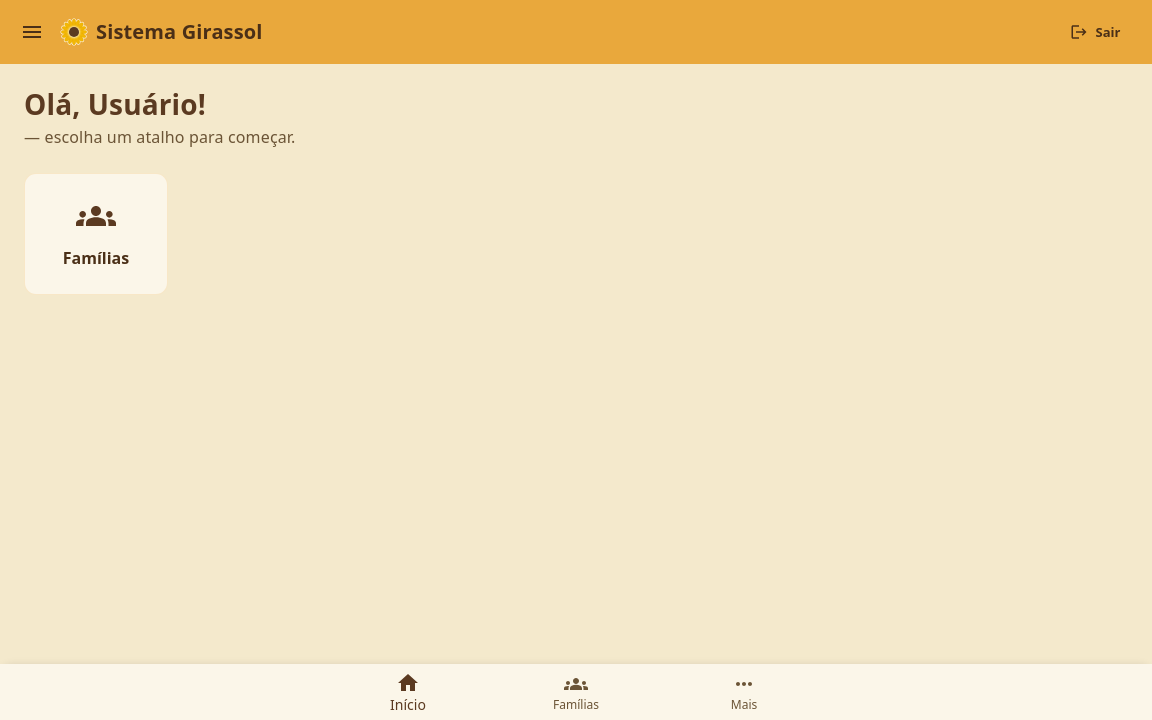
AppLayout — chrome mobile › "Mais" também abre o drawer
This screenshot has width=1152, height=720.
Click the button "Mais": (744, 692) [660,664,828,719]
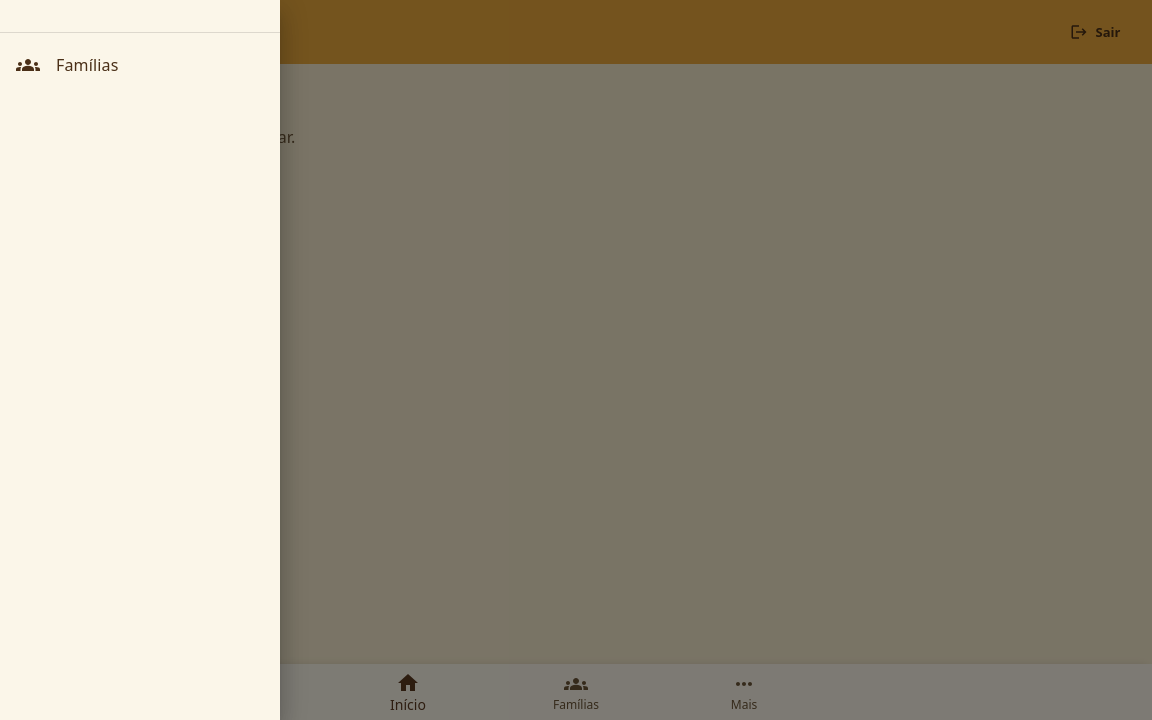
Check: the link "Famílias" is shown, box [16,53,118,77]
